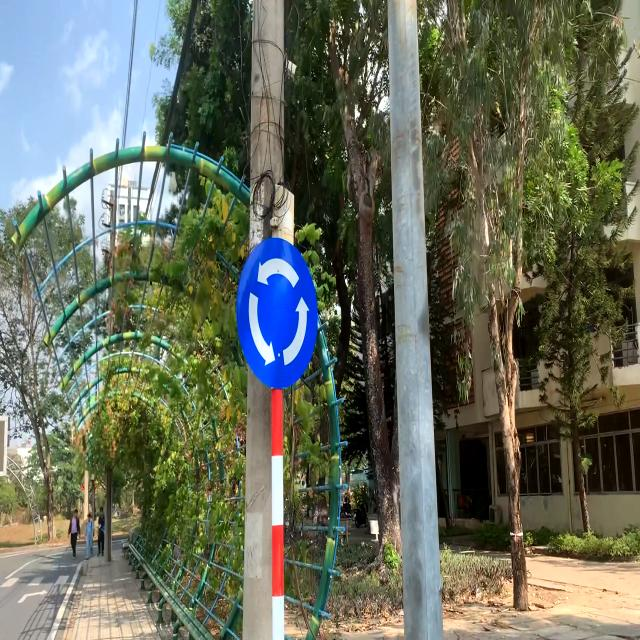R.303: (236, 237, 318, 390)
